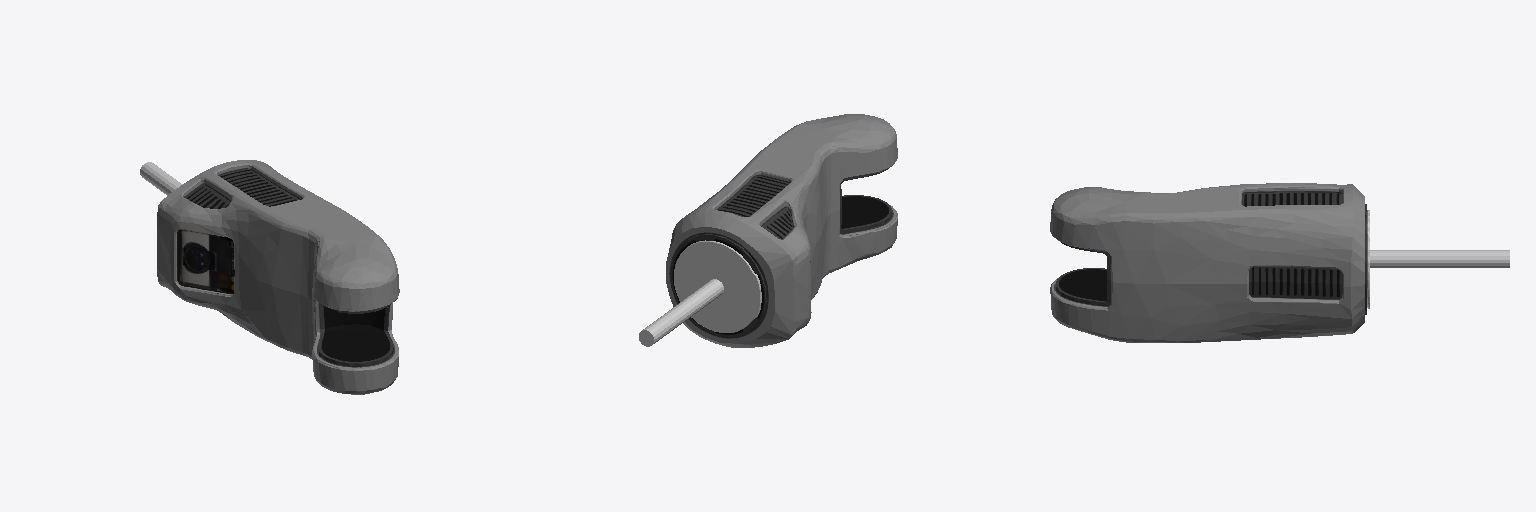
3 renders of one model, left to right at view 1: azimuth 30°, elevation 25°; view 2: azimuth 150°, elevation 25°; view 3: azimuth 270°, elevation 25°, orthographic.
Parts seen in each view (by area): view 1: /ambf/env/pr2/r_forearm_roll_link_/ambf/env/pr2/r_forearm_roll_l; view 2: /ambf/env/pr2/r_forearm_roll_link_/ambf/env/pr2/r_forearm_roll_l; view 3: /ambf/env/pr2/r_forearm_roll_link_/ambf/env/pr2/r_forearm_roll_l.
Part boxes in pixels (bbox=[...]): /ambf/env/pr2/r_forearm_roll_link_/ambf/env/pr2/r_forearm_roll_l: bbox=[140, 160, 399, 394]; /ambf/env/pr2/r_forearm_roll_link_/ambf/env/pr2/r_forearm_roll_l: bbox=[639, 114, 897, 347]; /ambf/env/pr2/r_forearm_roll_link_/ambf/env/pr2/r_forearm_roll_l: bbox=[1050, 183, 1509, 342].
Size of the model in its own units: 0.121 by 0.1201 by 0.3823.
2 materials, 1 textured.